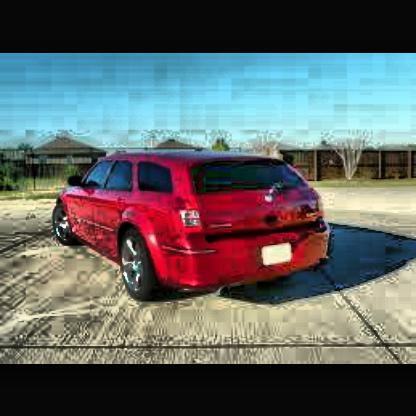Dodge Magnum Wagon 2008: (52, 150, 333, 305)
